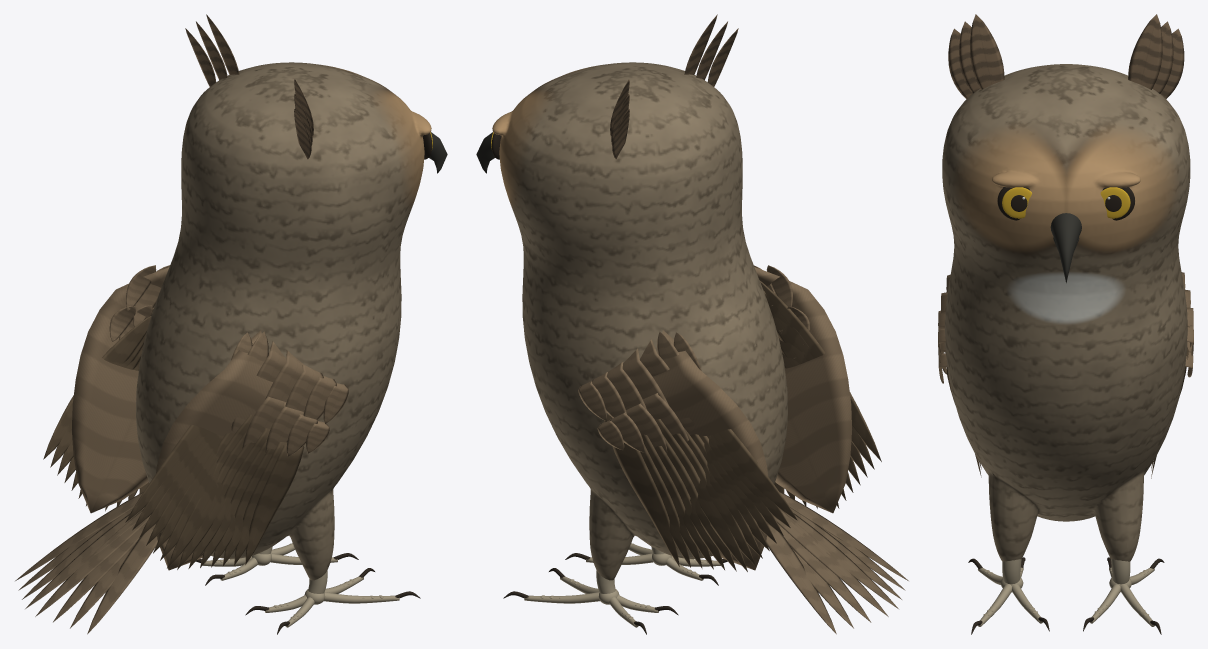
The model's file is T01-Owl-Innerscene-R187-512.glb.
3 views of the same model, side by side, from view 1: azimuth 30°, elevation 25°; view 2: azimuth 150°, elevation 25°; view 3: azimuth 270°, elevation 25° (orthographic). The views are drawn at different scales.
Parts seen in each view (by area): view 1: Continuous anatomical skin | owl, Cambered folded wing foundation.001, Cambered folded wing foundation, Overlapping closed flight feather 13, Overlapping tail rectrix 00, Overlapping closed flight feather 06, Overlapping closed flight feather 13.001, Overlapping tail rectrix 03, Overlapping closed flight feather 00, Overlapping tail rectrix 04, Overlapping closed flight feather 09, Overlapping tail rectrix 07 (+22 smaller); view 2: Continuous anatomical skin | owl, Cambered folded wing foundation, Cambered folded wing foundation.001, Overlapping closed flight feather 00.001, Overlapping closed flight feather 00, Overlapping tail rectrix 07, Overlapping closed flight feather 13.001, Overlapping closed flight feather 06.001, Overlapping tail rectrix 04, Overlapping tail rectrix 03, Overlapping closed flight feather 05.001, Overlapping tail rectrix 00 (+21 smaller); view 3: Continuous anatomical skin | owl, Paired owl feather tuft, not an anatomical ear, Paired owl feather tuft, not an anatomical ear.003, Closed descending upper hook and seated cere, Paired owl feather tuft, not an anatomical ear.004, Paired owl feather tuft, not an anatomical ear.001, Paired owl feather tuft, not an anatomical ear.002, Paired owl feather tuft, not an anatomical ear.005, Flush golden owl iris, Flush golden owl iris.001, Bare raptor tarsus seated inside thigh and foot, Bare raptor tarsus seated inside thigh and foot.001 (+2 smaller).
Boxes of the visible parts, <box> form: Continuous anatomical skin | owl: <box>136,62,431,580</box>; Cambered folded wing foundation.001: <box>72,267,169,513</box>; Cambered folded wing foundation: <box>155,330,272,570</box>; Overlapping closed flight feather 13: <box>245,445,304,564</box>; Overlapping tail rectrix 00: <box>87,524,157,634</box>; Overlapping closed flight feather 06: <box>167,414,253,568</box>; Overlapping closed flight feather 13.001: <box>43,316,151,459</box>; Overlapping tail rectrix 03: <box>35,509,150,616</box>; Overlapping closed flight feather 00: <box>125,425,208,522</box>; Overlapping tail rectrix 04: <box>25,508,143,608</box>; Overlapping closed flight feather 09: <box>200,428,270,567</box>; Overlapping tail rectrix 07: <box>15,492,143,580</box>; Continuous anatomical skin | owl: <box>492,62,787,580</box>; Cambered folded wing foundation: <box>754,267,851,513</box>; Cambered folded wing foundation.001: <box>653,330,768,570</box>; Overlapping closed flight feather 00.001: <box>604,415,679,566</box>; Overlapping closed flight feather 00: <box>759,280,881,461</box>; Overlapping tail rectrix 07: <box>766,524,836,634</box>; Overlapping closed flight feather 13.001: <box>718,429,797,520</box>; Overlapping closed flight feather 06.001: <box>672,433,747,571</box>; Overlapping tail rectrix 04: <box>774,510,888,616</box>; Overlapping tail rectrix 03: <box>785,513,898,608</box>; Overlapping closed flight feather 05.001: <box>655,419,736,571</box>; Overlapping tail rectrix 00: <box>779,491,908,580</box>; Continuous anatomical skin | owl: <box>942,64,1190,561</box>; Paired owl feather tuft, not an anatomical ear: <box>970,14,1004,89</box>; Paired owl feather tuft, not an anatomical ear.003: <box>1128,14,1162,89</box>; Closed descending upper hook and seated cere: <box>1050,213,1081,283</box>; Paired owl feather tuft, not an anatomical ear.004: <box>1152,21,1173,93</box>; Paired owl feather tuft, not an anatomical ear.001: <box>959,21,979,93</box>; Paired owl feather tuft, not an anatomical ear.002: <box>948,28,971,98</box>; Paired owl feather tuft, not an anatomical ear.005: <box>1160,28,1184,98</box>; Flush golden owl iris: <box>1002,187,1031,218</box>; Flush golden owl iris.001: <box>1100,187,1130,218</box>; Bare raptor tarsus seated inside thigh and foot: <box>1002,559,1021,584</box>; Bare raptor tarsus seated inside thigh and foot.001: <box>1111,559,1130,584</box>.
Size of the model in its own units: 0.408 by 0.5128 by 0.2121.
Materials: 12 (12 with a texture image).
